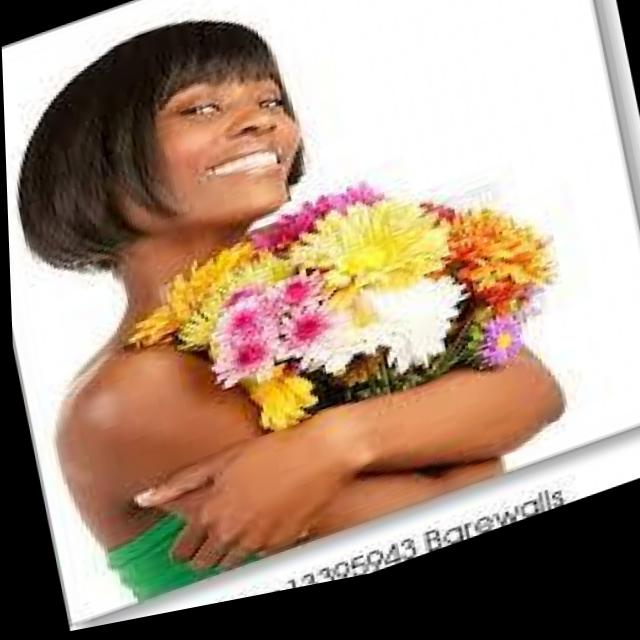Flower: (399, 186, 565, 357), (287, 190, 459, 335), (290, 268, 460, 399), (263, 305, 340, 380), (207, 294, 294, 360), (254, 274, 333, 345), (205, 328, 283, 395), (463, 334, 529, 389)
